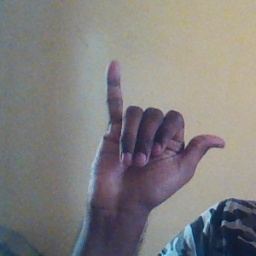J: (81, 58, 227, 207)
